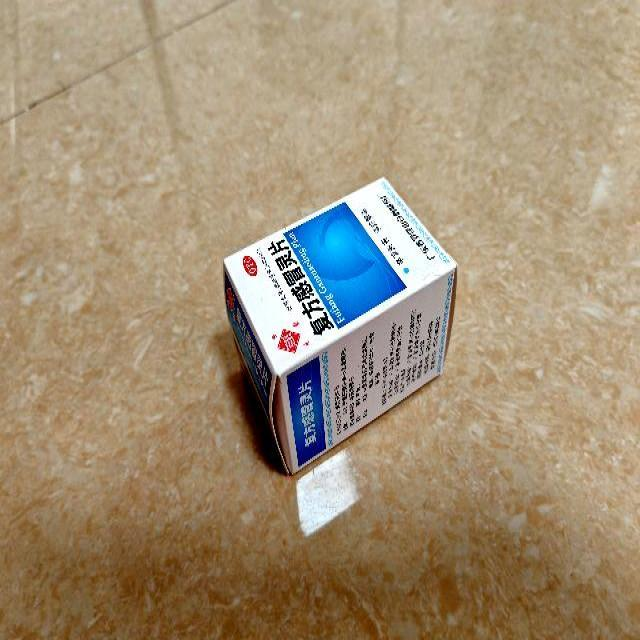box: (222, 176, 458, 476)
